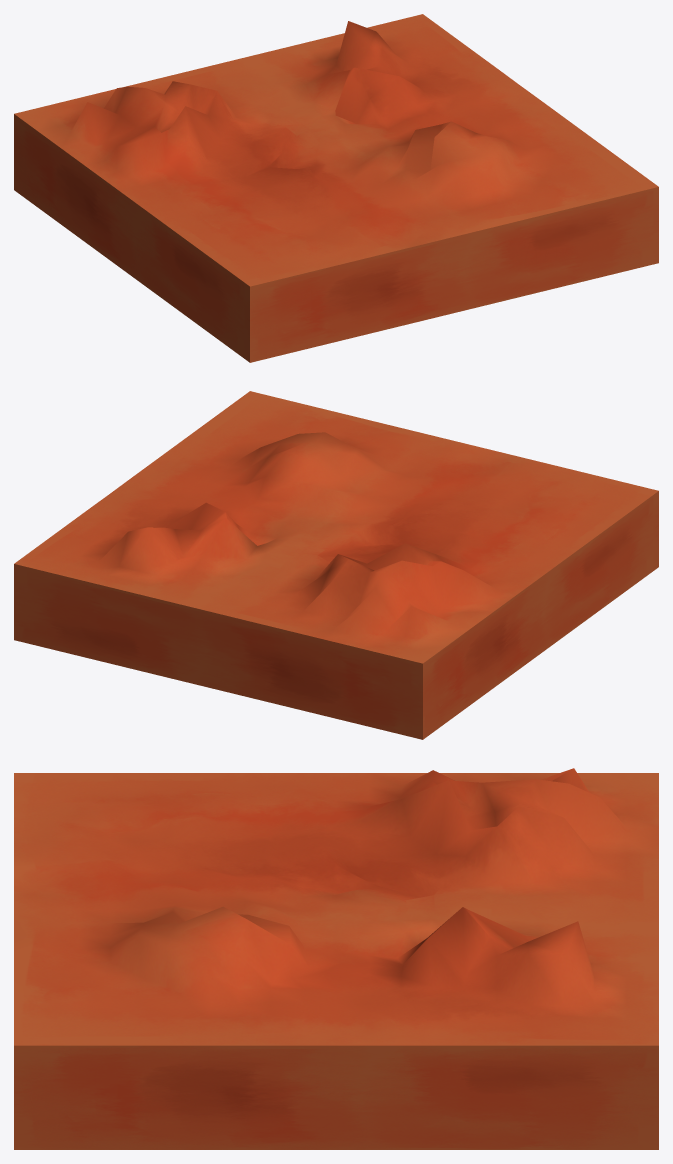
File: Tile2_textured.fbx
3 renders of one model, top to bottom at view 1: azimuth 30°, elevation 25°; view 2: azimuth 150°, elevation 25°; view 3: azimuth 270°, elevation 25°, orthographic. The views are drawn at different scales.
Parts seen in each view (by area): view 1: pCube1; view 2: pCube1; view 3: pCube1.
Part boxes in pixels (bbox=[...]): pCube1: bbox=[14, 14, 658, 362]; pCube1: bbox=[14, 391, 658, 739]; pCube1: bbox=[14, 768, 658, 1149].
Size of the model in its own units: 3.81 by 1.04 by 3.81.
